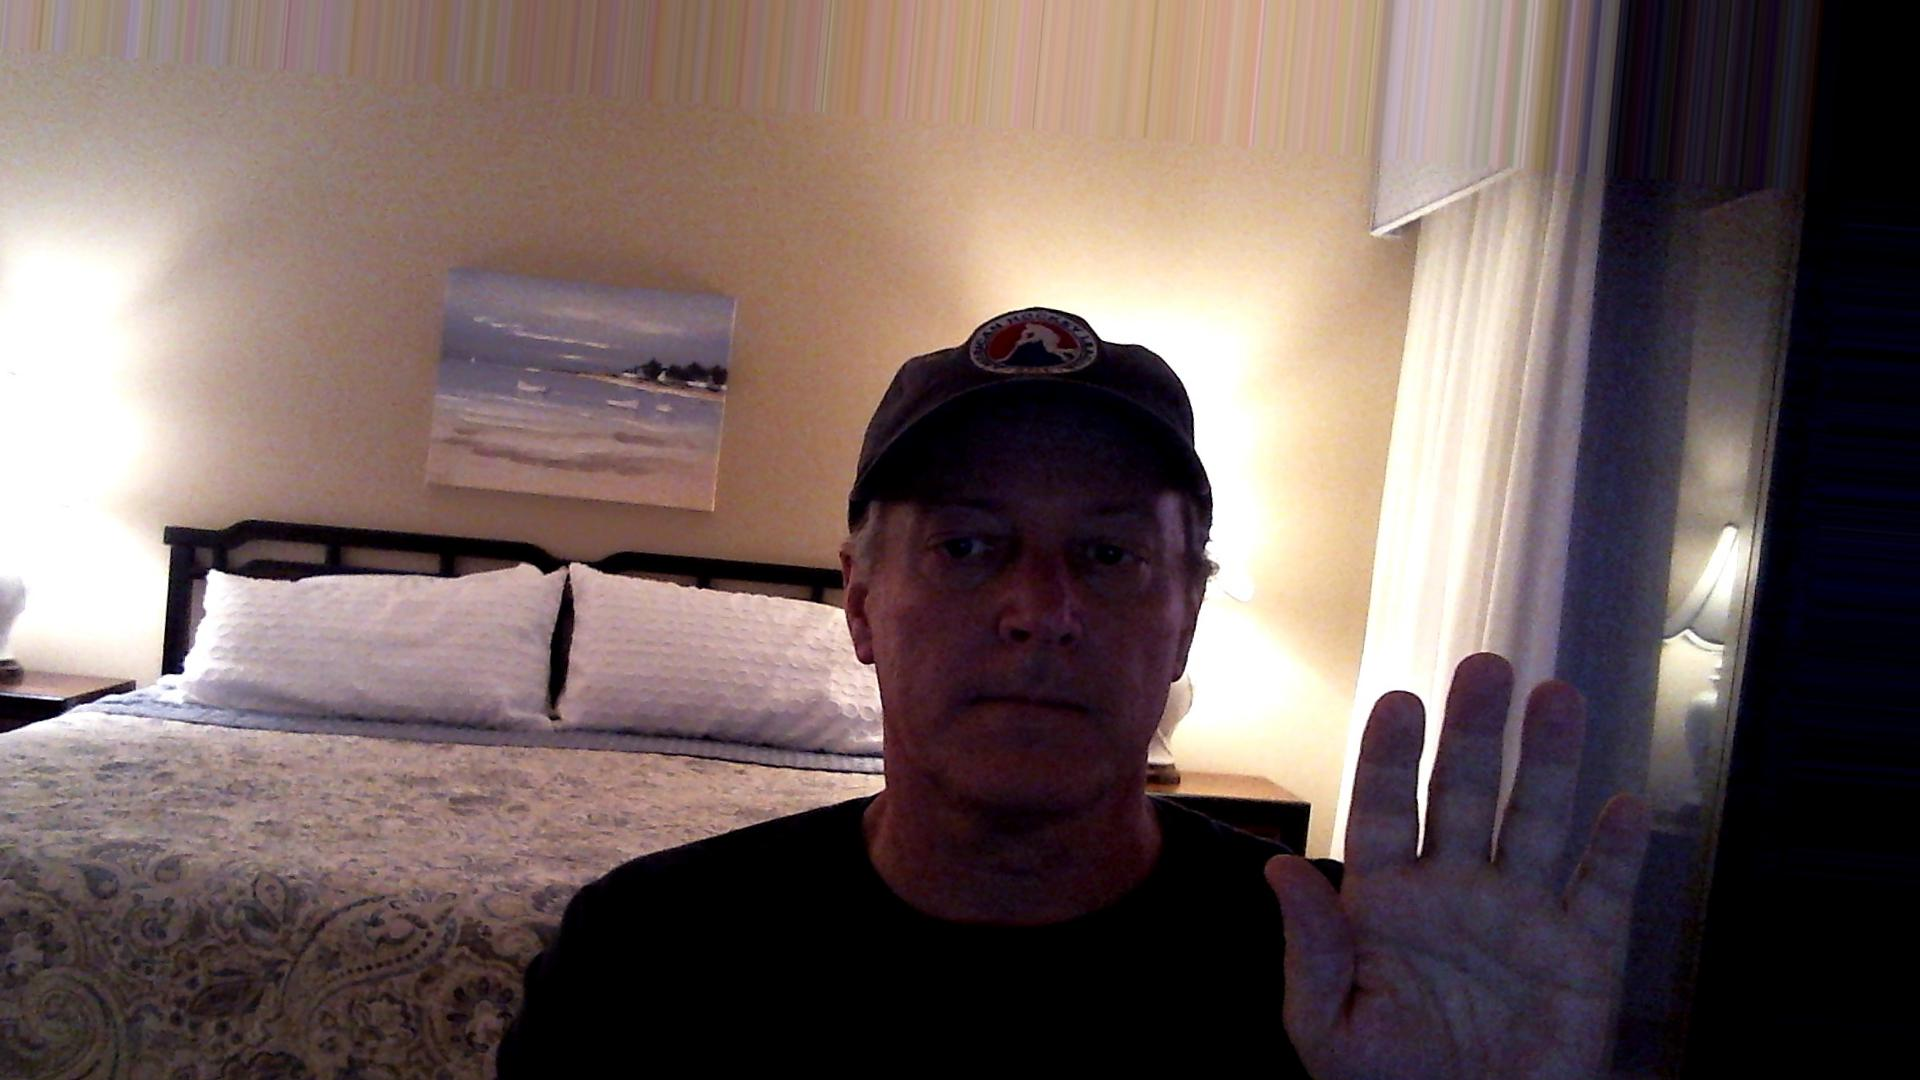Hello: (1253, 632, 1658, 1080)
